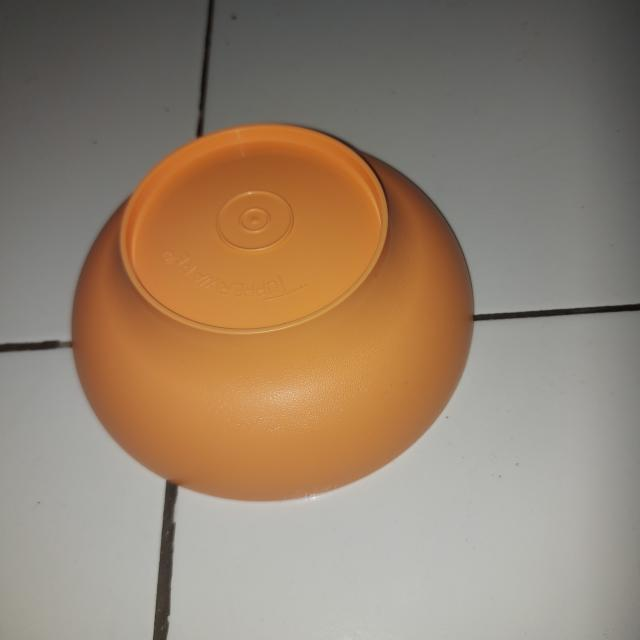Anorganik: (68, 118, 478, 506)
